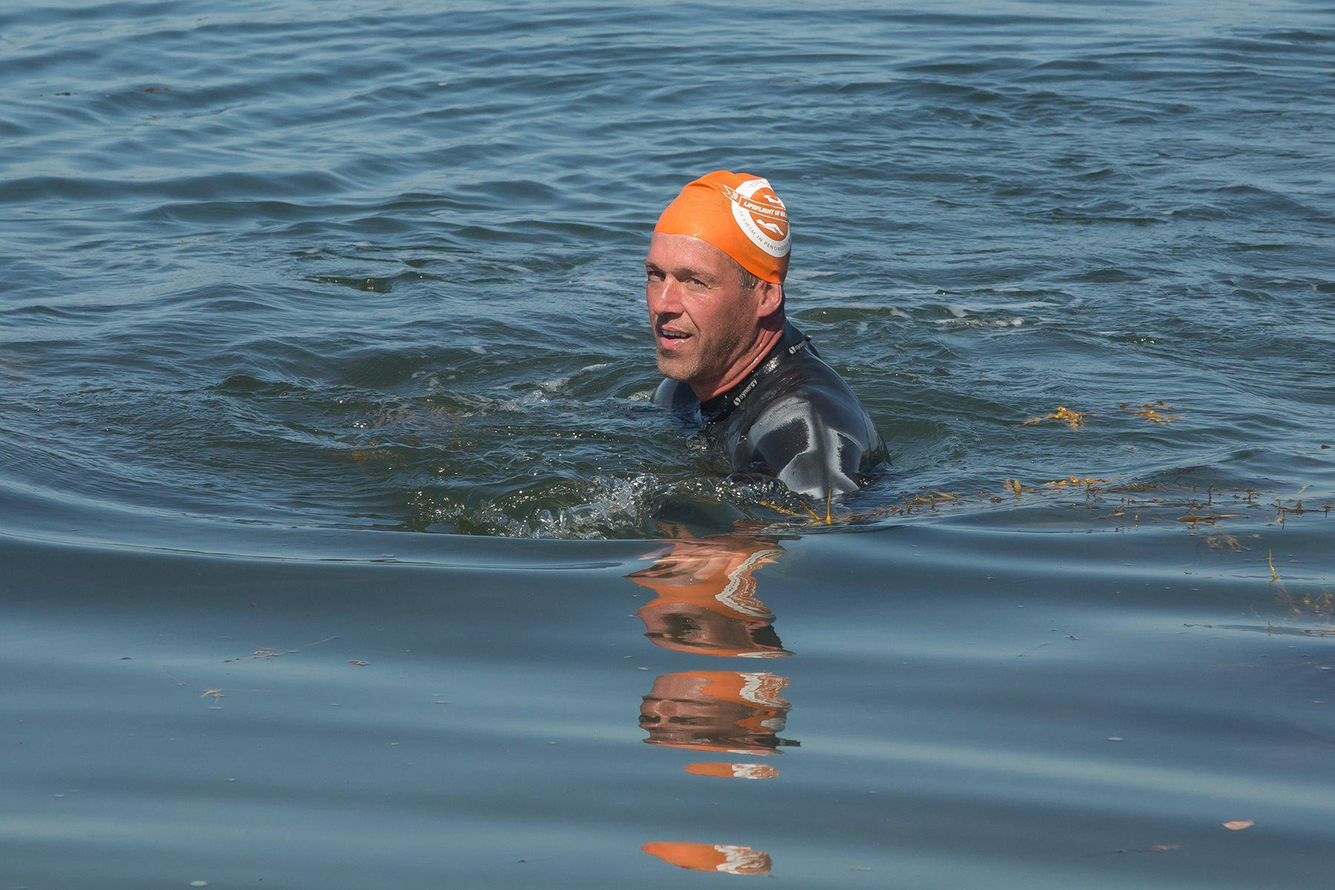human: (633, 134, 903, 535)
